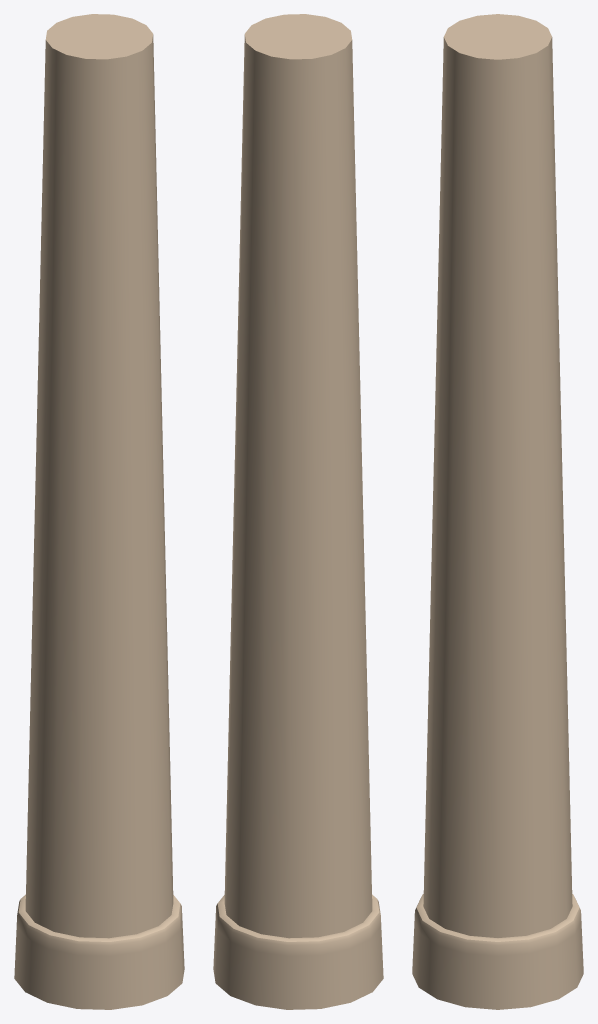
The model's file is lighthouse.fbx.
The picture shows the model from 3 angles, left to right: view 1: azimuth 30°, elevation 25°; view 2: azimuth 150°, elevation 25°; view 3: azimuth 270°, elevation 25°; orthographic projection.
Parts seen in each view (by area): view 1: lighthouse_main; view 2: lighthouse_main; view 3: lighthouse_main.
Part boxes in pixels (<box>): lighthouse_main: <box>14,14,184,1009</box>; lighthouse_main: <box>213,14,383,1009</box>; lighthouse_main: <box>412,14,583,1009</box>.
Bounding box in the file's own units: 10629 × 64027 × 10629.
